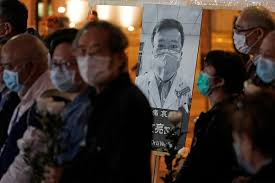mask: (77, 31, 114, 85), (50, 44, 81, 93), (2, 48, 35, 92), (232, 11, 257, 55), (256, 32, 275, 83), (196, 61, 220, 96)
